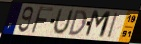9: (18, 6, 34, 33)
D: (67, 9, 88, 36)
F: (29, 6, 54, 35)
I: (106, 12, 119, 40)
M: (83, 9, 113, 40)
U: (51, 7, 75, 36)
